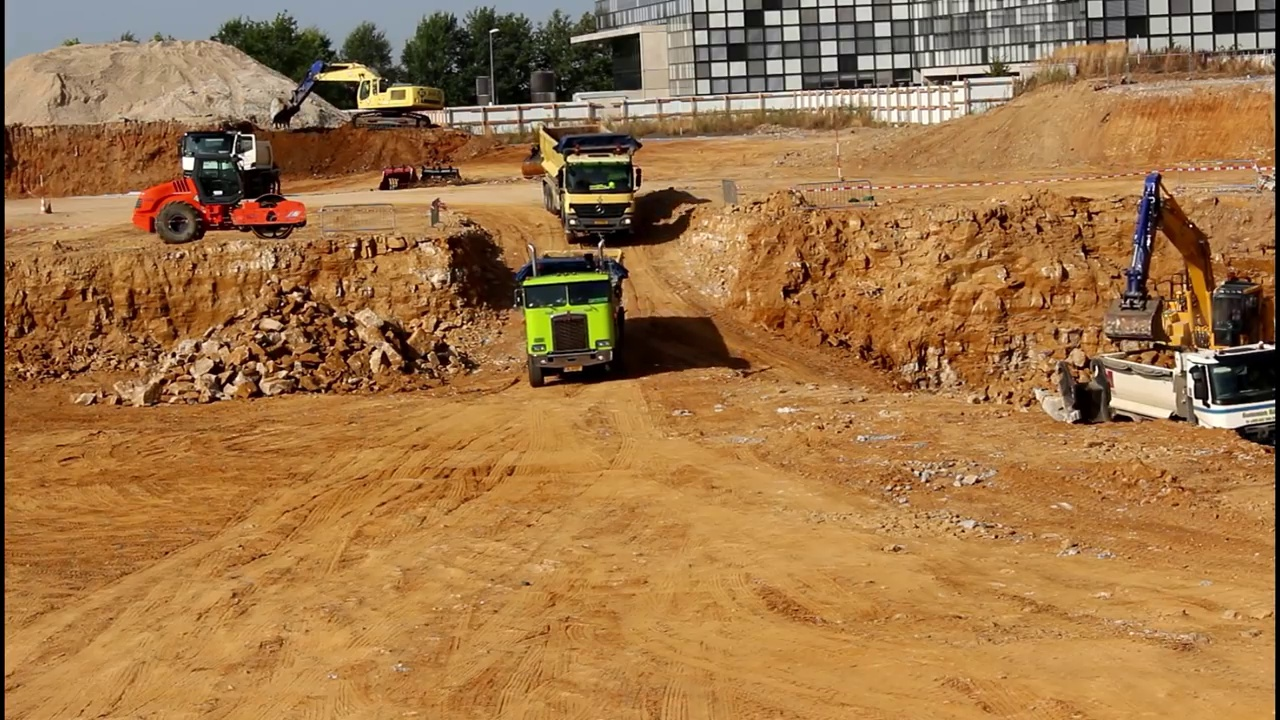compactor: (131, 155, 310, 245)
excavator: (1102, 169, 1280, 408), (269, 52, 450, 134)
truck: (1086, 338, 1280, 464), (515, 236, 631, 390), (534, 120, 647, 245), (178, 119, 286, 212)
worker: (268, 152, 285, 196)
